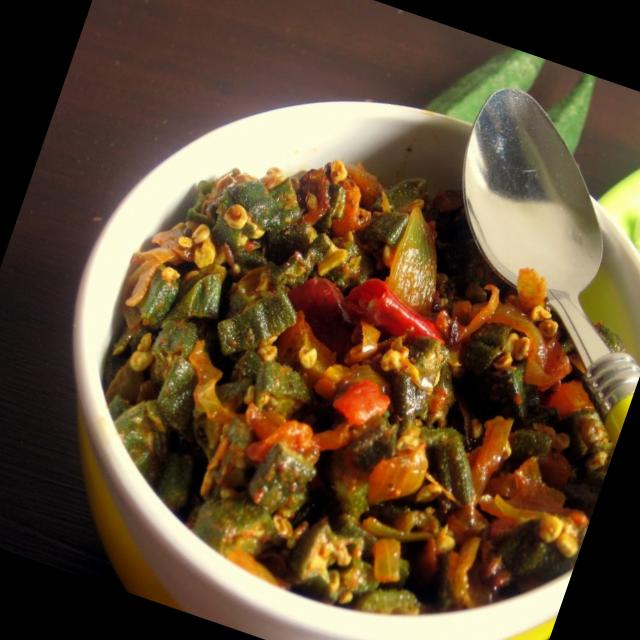BhindiMasala: (45, 94, 640, 640)
